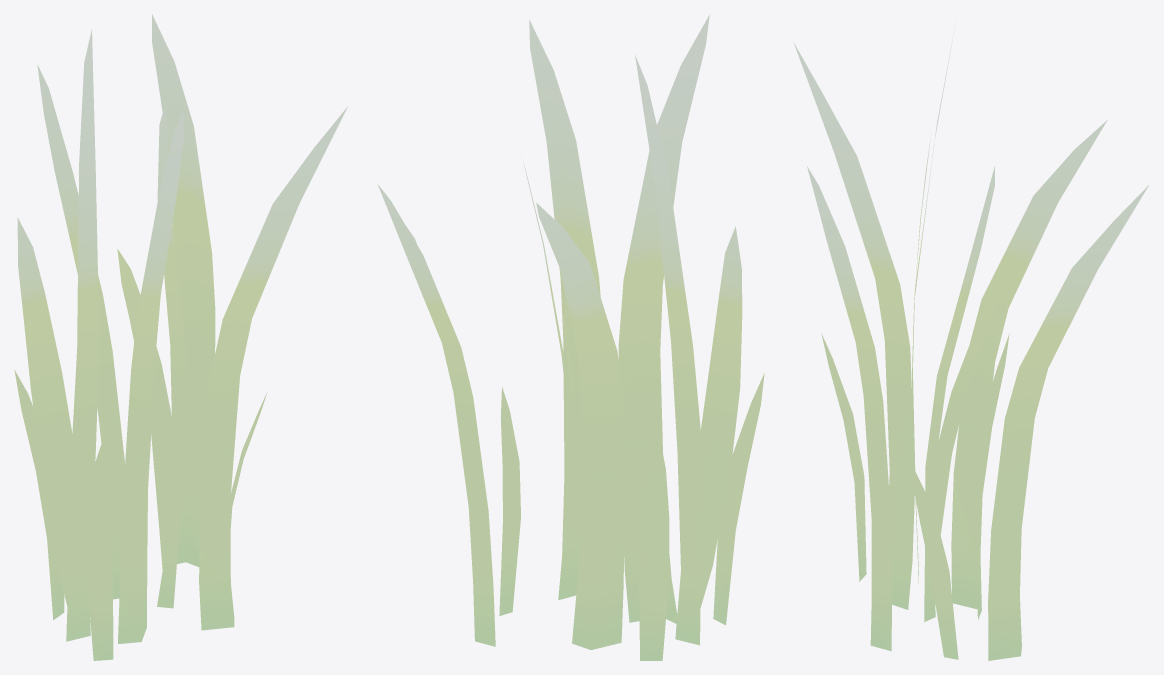
File: SnowGrass_Common_Short.obj
3 views of the same model, side by side, from view 1: azimuth 30°, elevation 25°; view 2: azimuth 150°, elevation 25°; view 3: azimuth 270°, elevation 25° (orthographic). The views are drawn at different scales.
Visible parts, largest first — view 1: SnowGrass_Common_Short; view 2: SnowGrass_Common_Short; view 3: SnowGrass_Common_Short.
Boxes of the visible parts, x1,y1,x2,y2 form: SnowGrass_Common_Short: (14, 14, 347, 660); SnowGrass_Common_Short: (377, 14, 764, 660); SnowGrass_Common_Short: (793, 27, 1149, 660).
Size of the model in its own units: 0.6389 by 1.33 by 0.7373.
1 material, 1 textured.
